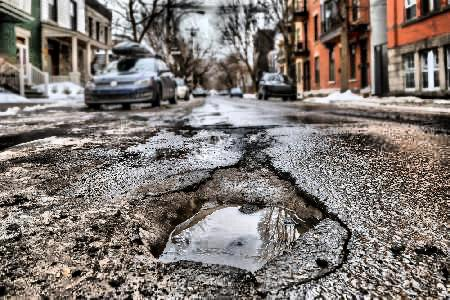pothole: (142, 159, 330, 272)
